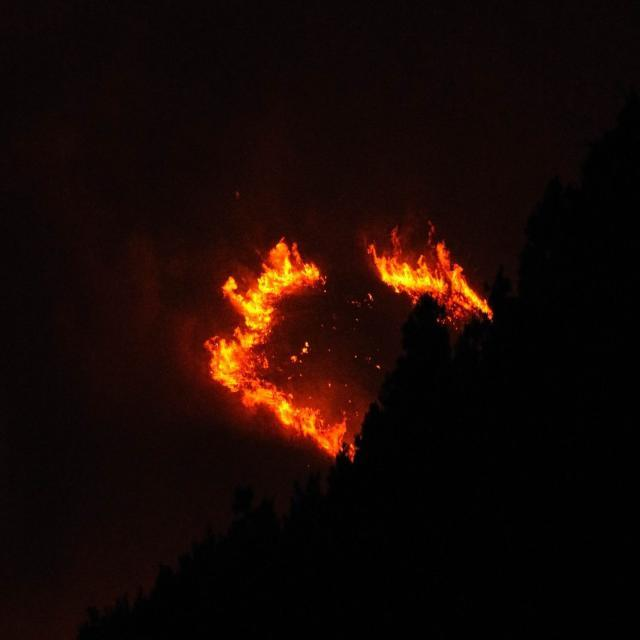Fire: (202, 220, 358, 465), (366, 224, 494, 326)
